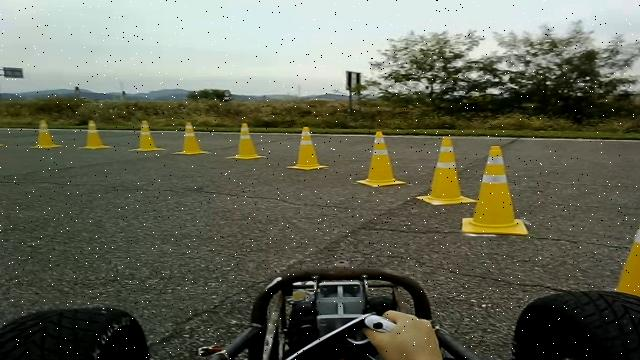yellow cone: (461, 145, 528, 236), (414, 136, 478, 206), (614, 187, 640, 302), (354, 130, 406, 187), (286, 126, 328, 170), (225, 122, 267, 160), (172, 121, 211, 155), (128, 120, 166, 152), (78, 119, 112, 149), (30, 118, 62, 148)
